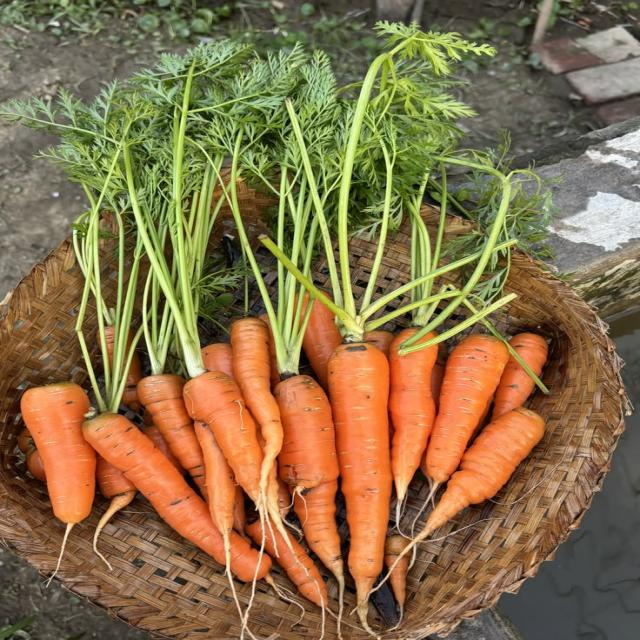carrot: (390, 408, 545, 570), (83, 413, 225, 565), (328, 342, 393, 632), (414, 408, 545, 541), (274, 375, 344, 606), (21, 381, 96, 581), (426, 334, 508, 494), (182, 372, 263, 506), (230, 318, 282, 503), (389, 327, 437, 514), (138, 374, 206, 499), (274, 375, 339, 493), (247, 520, 327, 608), (194, 421, 237, 570), (294, 480, 344, 589), (194, 421, 236, 540), (94, 455, 137, 569), (303, 292, 342, 390), (492, 355, 534, 420), (142, 415, 186, 474), (385, 535, 410, 620), (259, 314, 280, 390), (121, 350, 142, 412), (431, 342, 447, 411), (201, 343, 233, 377), (363, 329, 395, 356), (26, 447, 46, 483), (234, 484, 246, 537), (17, 428, 34, 454)
